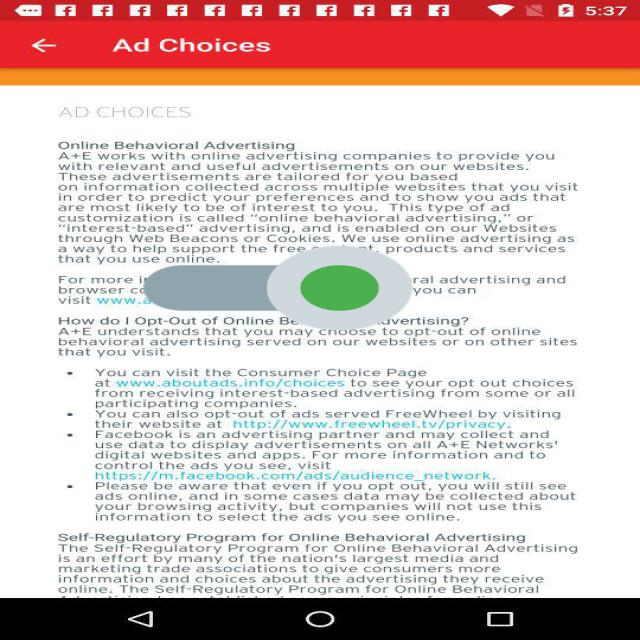social proof: (144, 210, 412, 366)
